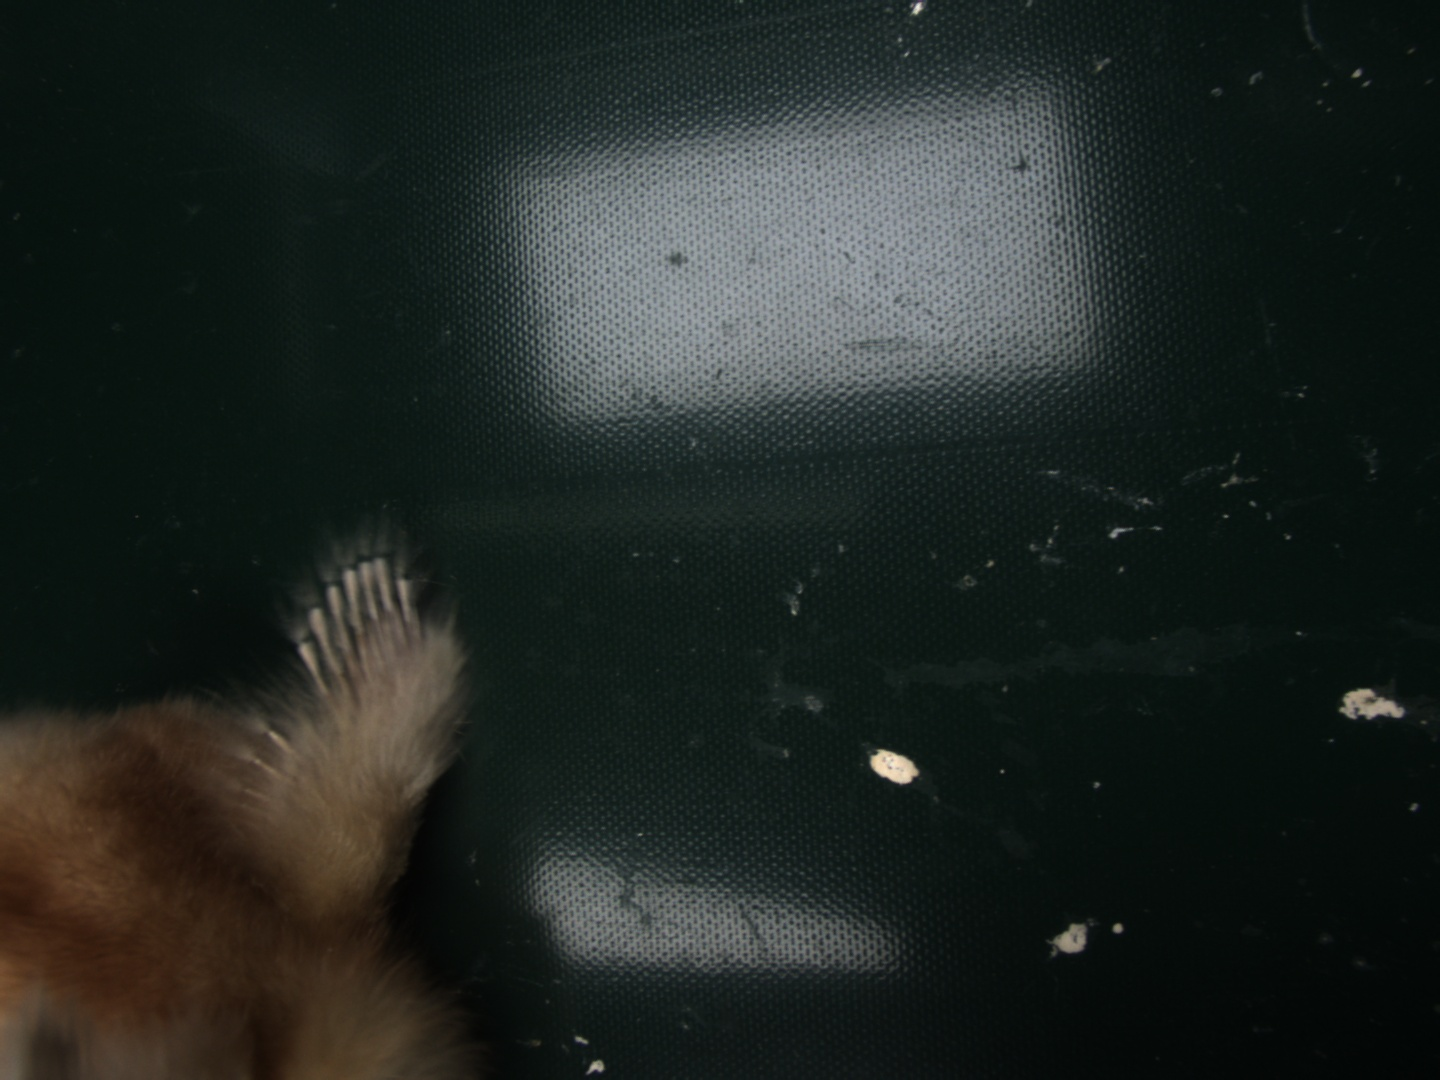female: (286, 549, 418, 697)
